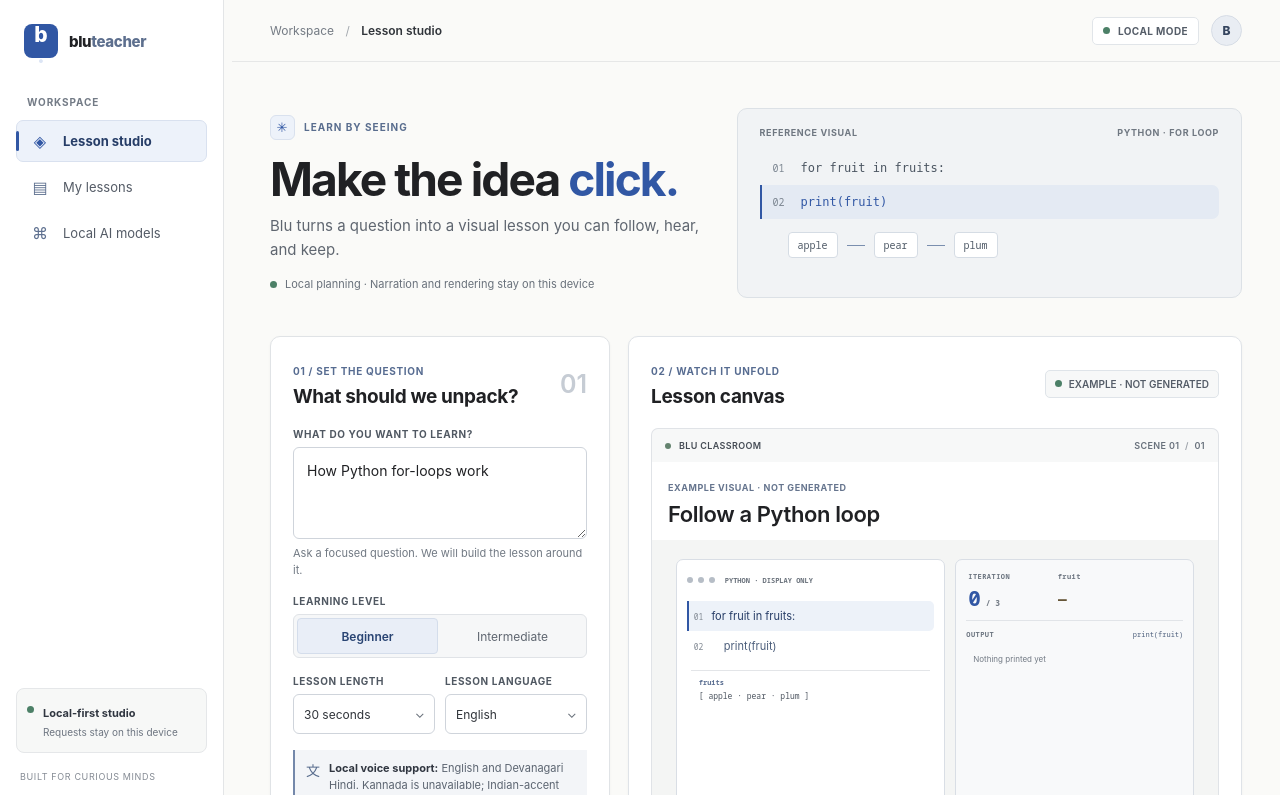
Test case: lesson studio API integration › sends actual form values and renders the returned lesson scenes dynamically
Replace the text in the text box labelled "WHAT DO YOU WANT TO LEARN?" with "How do fractions show parts of a whole?" at (440, 493), box [293,447,587,539]
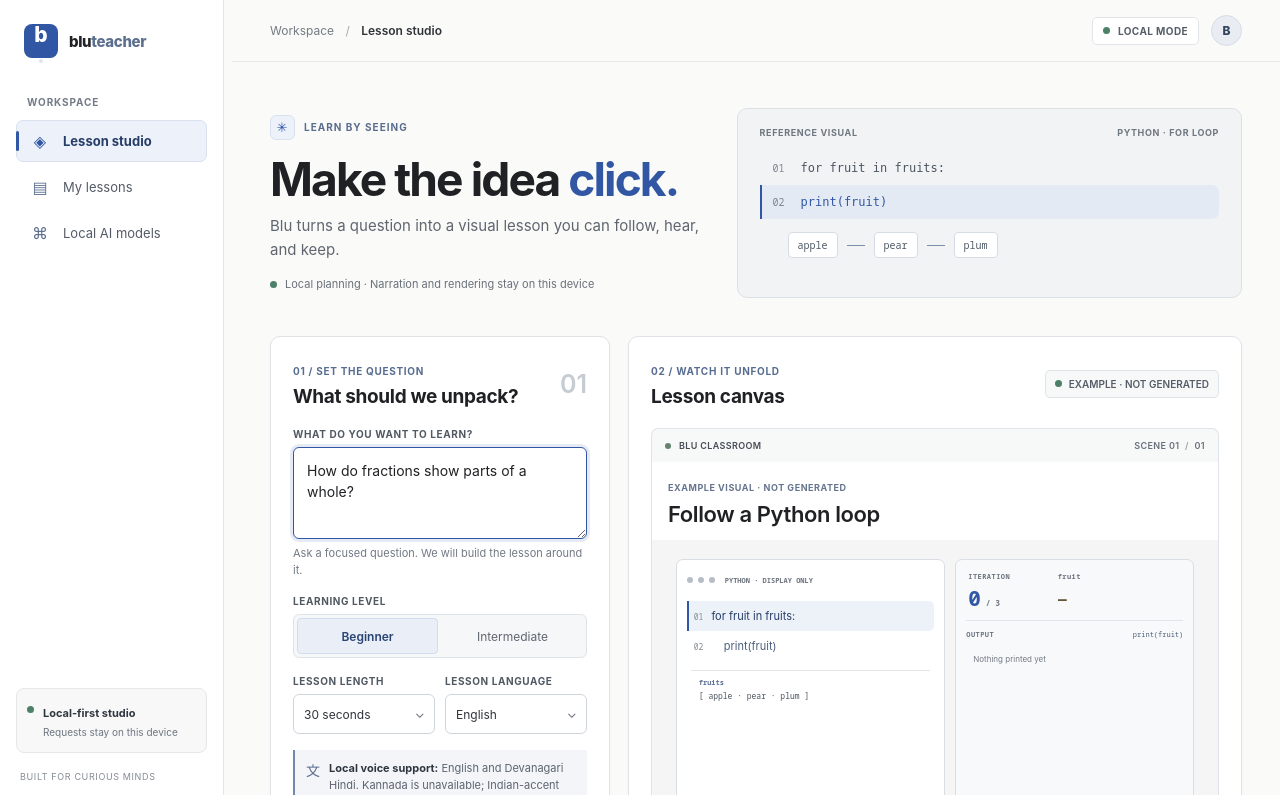
Click the button "Intermediate" at (512, 636), box [442,618,583,654]
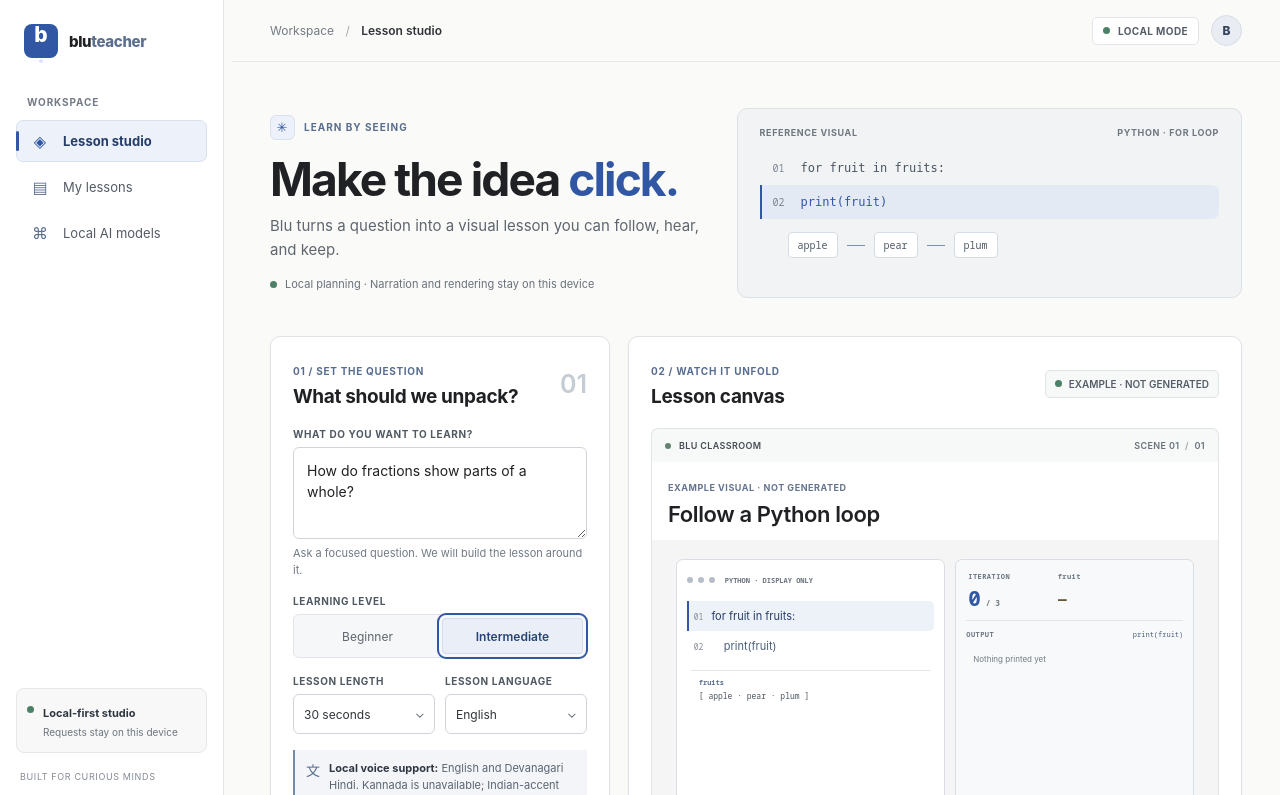
Select "90 seconds" in the dropdown labelled "LESSON LENGTH" at (364, 714), box [293,694,435,734]
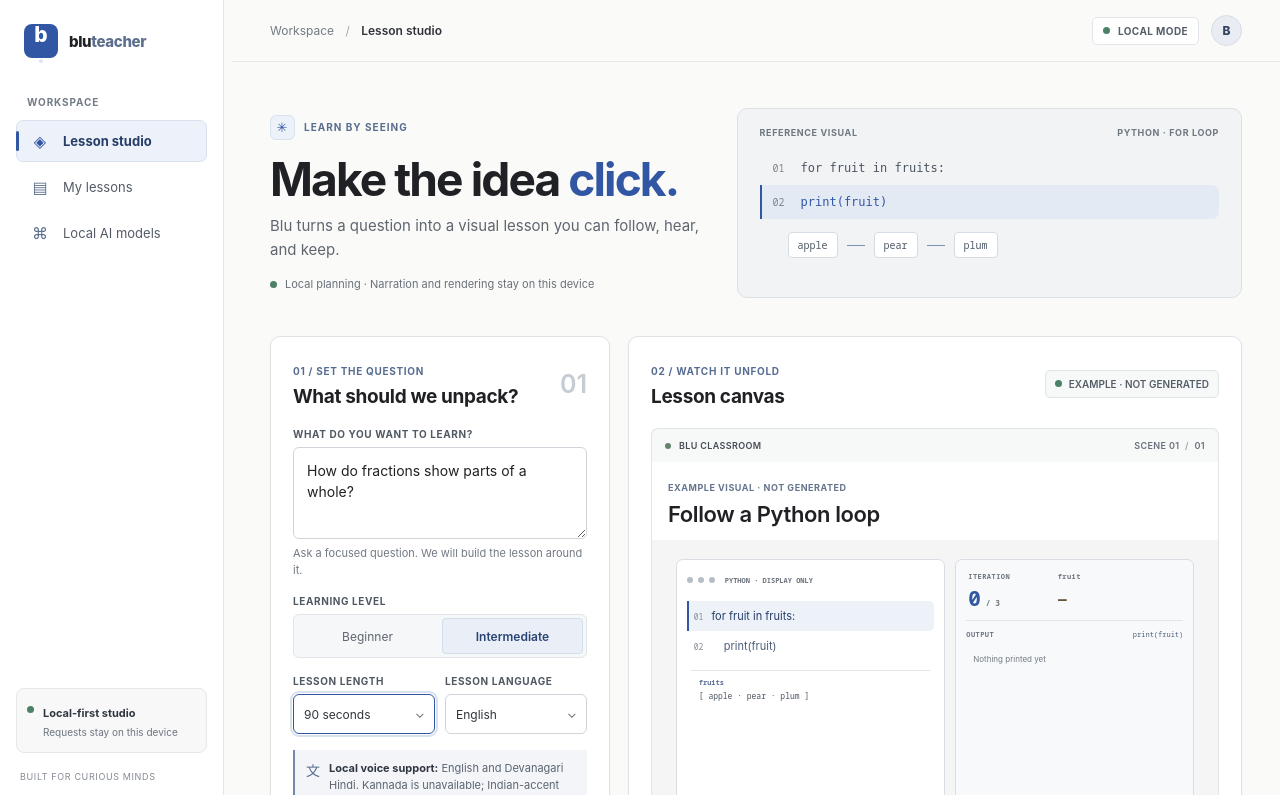
Select "English" in the dropdown labelled "LESSON LANGUAGE" at (516, 714), box [445,694,587,734]
(page scrolled)
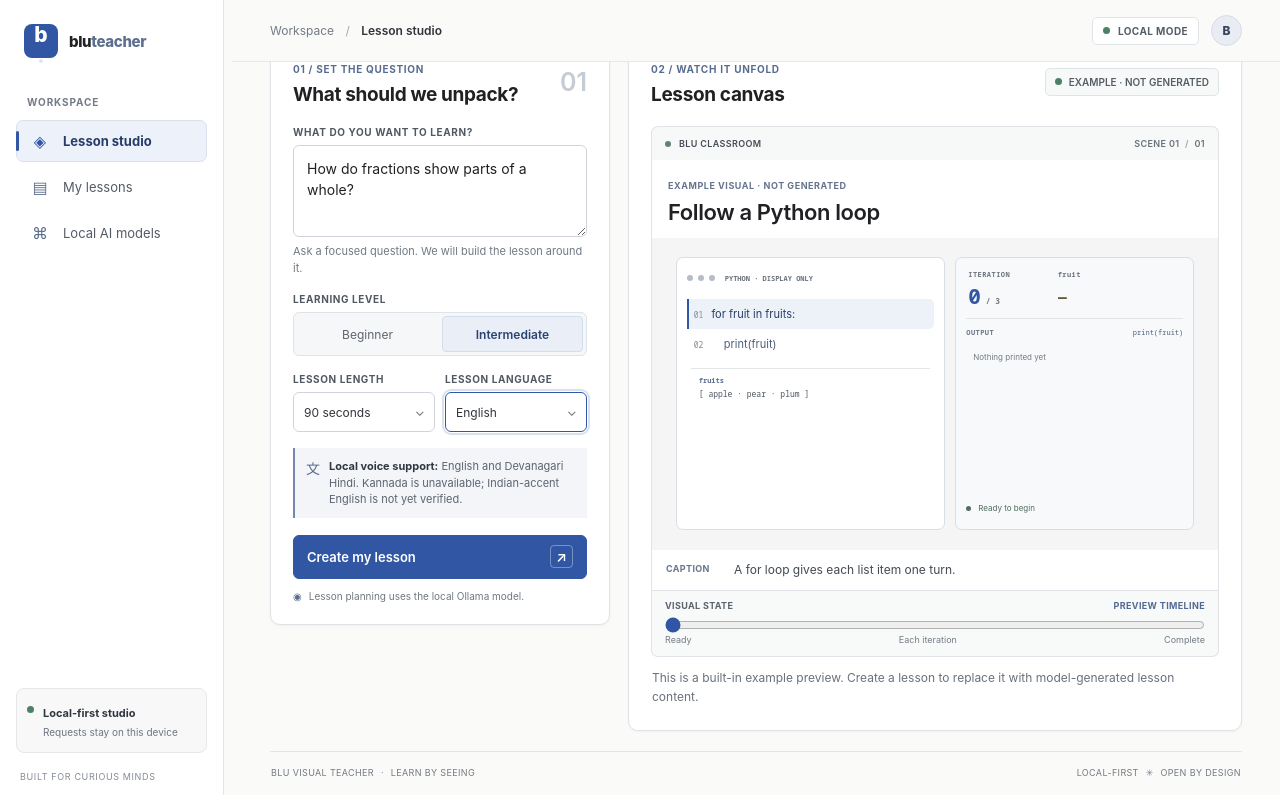
Click the button "Create my lesson ↗" at (361, 556), box [293,534,587,578]
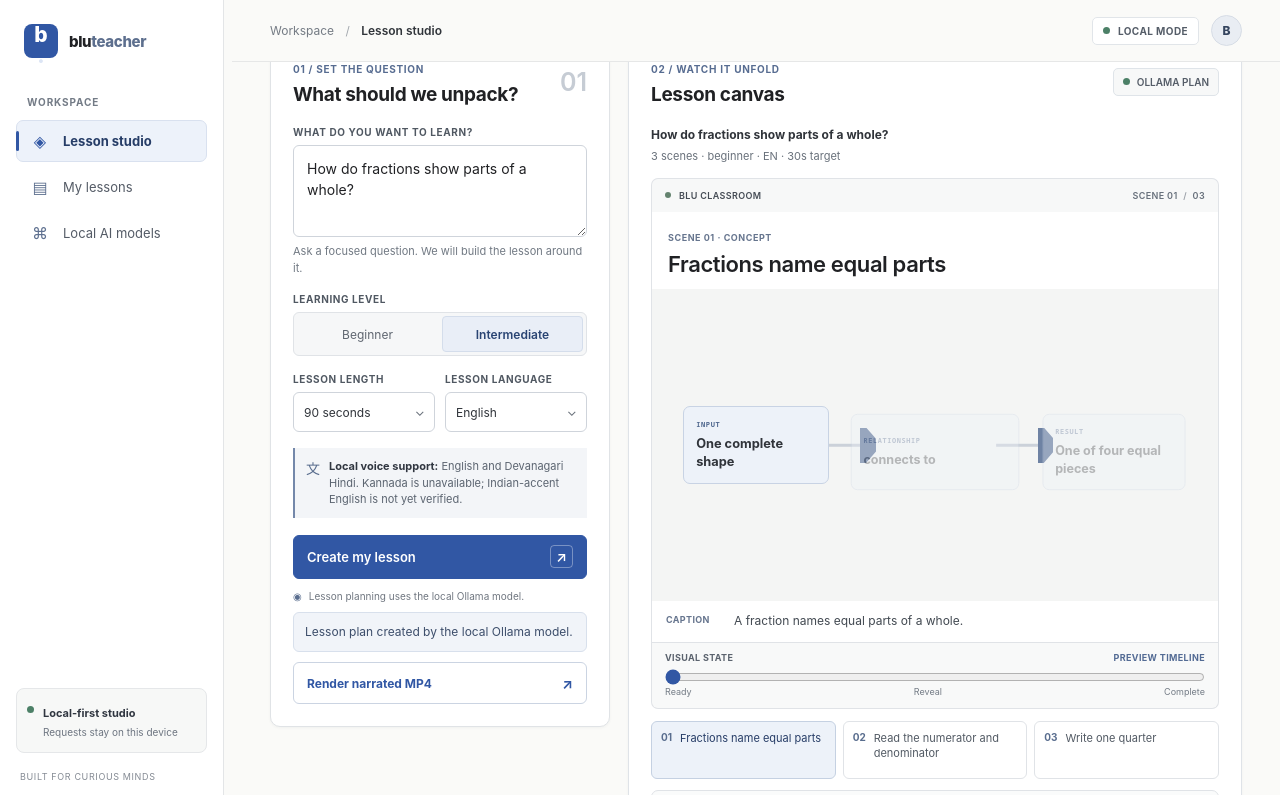
expect the heading "Fractions name equal parts" is shown: met, box [668,250,946,276]
expect the text "OLLAMA PLAN" is shown: met, box [1113,68,1219,96]
expect the text "A fraction names equal parts of a whole." is shown: met, box [734,613,963,628]
Click the button with aria-label "show scene 2" at (935, 750), box [843,721,1027,779]
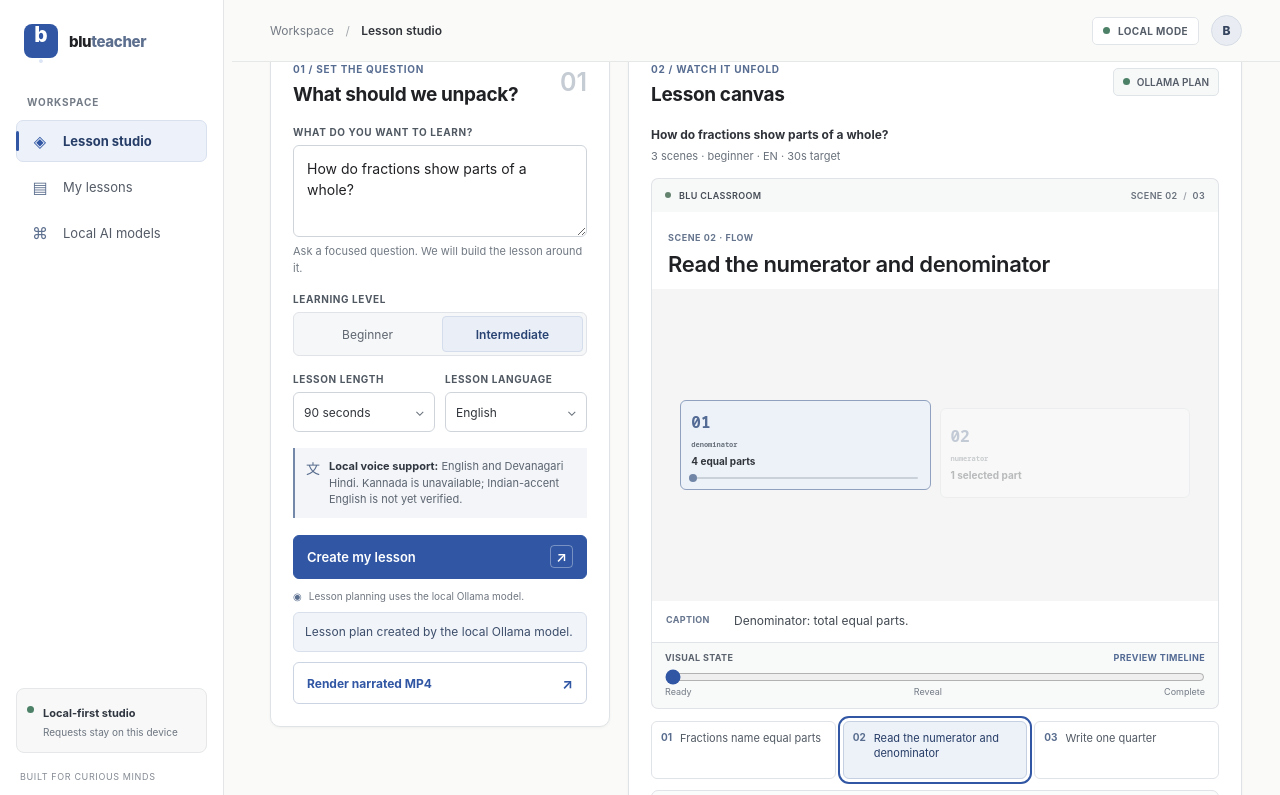
expect the heading "Read the numerator and denominator" is shown: met, box [668,250,1050,276]
